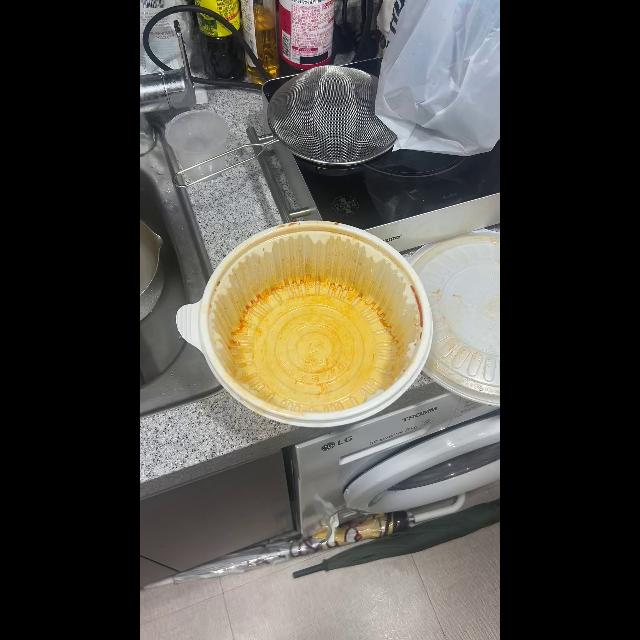dirty: (205, 221, 428, 415)
